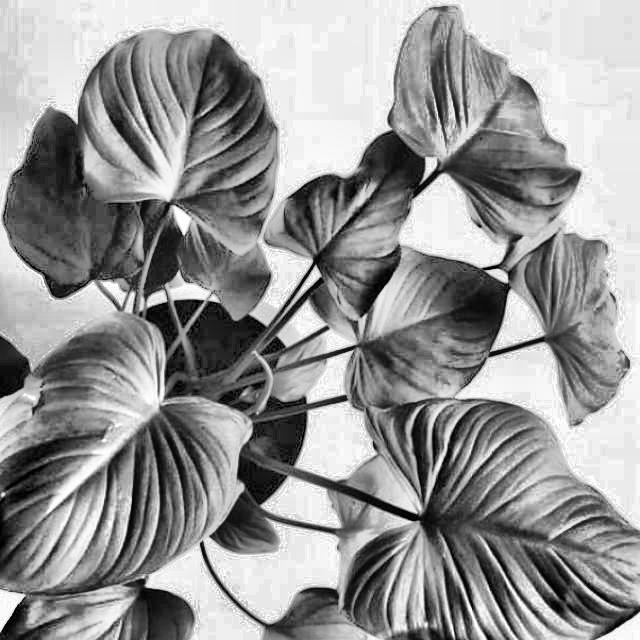plants: (32, 50, 462, 640)
